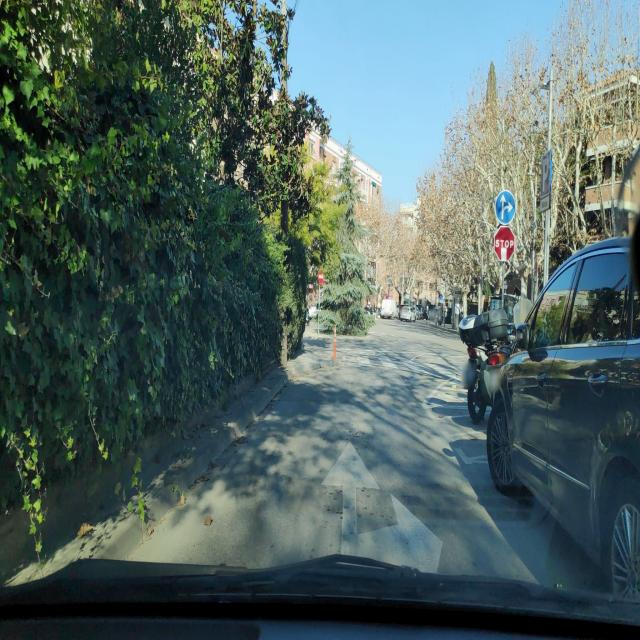bike: (462, 317, 519, 424)
car: (486, 235, 640, 610), (458, 314, 479, 343), (380, 298, 398, 320), (399, 306, 414, 322)
